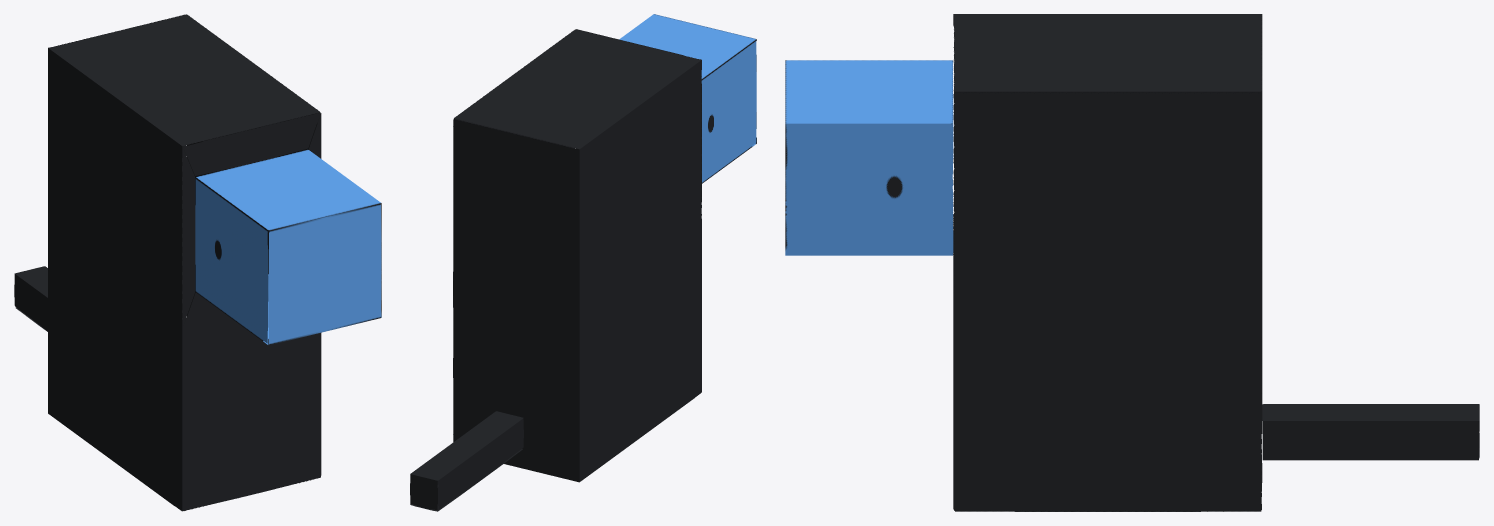
File: playermax.obj
3 views of the same model, side by side, from view 1: azimuth 30°, elevation 25°; view 2: azimuth 150°, elevation 25°; view 3: azimuth 270°, elevation 25° (orthographic). The views are drawn at different scales.
Visible parts, largest first — view 1: Cube; view 2: Cube; view 3: Cube.
Boxes of the visible parts, x1=… form: Cube: x1=14, y1=14, x2=381, y2=511; Cube: x1=410, y1=14, x2=756, y2=511; Cube: x1=785, y1=14, x2=1479, y2=511.
Size of the model in its own units: 0.596 by 1.5 by 2.25.
Materials: 1 (1 with a texture image).
